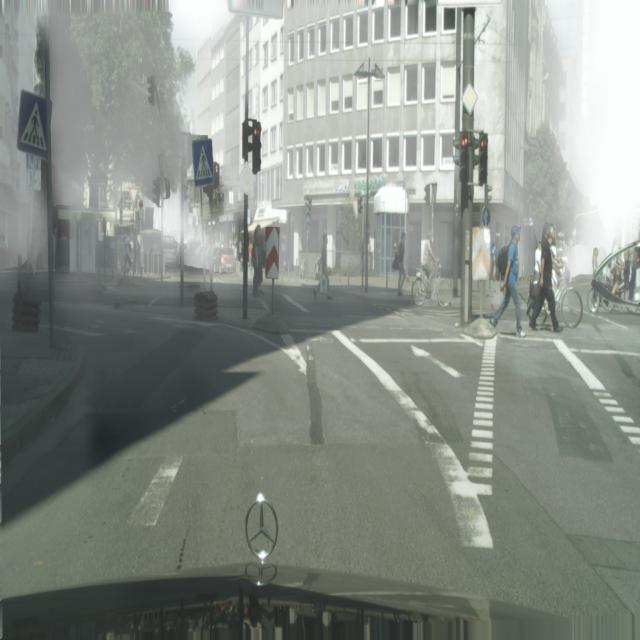car: (588, 237, 639, 315), (526, 266, 582, 329), (412, 239, 448, 307)
person: (490, 224, 525, 338), (531, 226, 562, 332), (527, 238, 543, 327), (252, 223, 266, 296), (393, 234, 406, 296), (320, 232, 328, 292)
truck: (216, 247, 236, 274), (162, 236, 179, 267)
